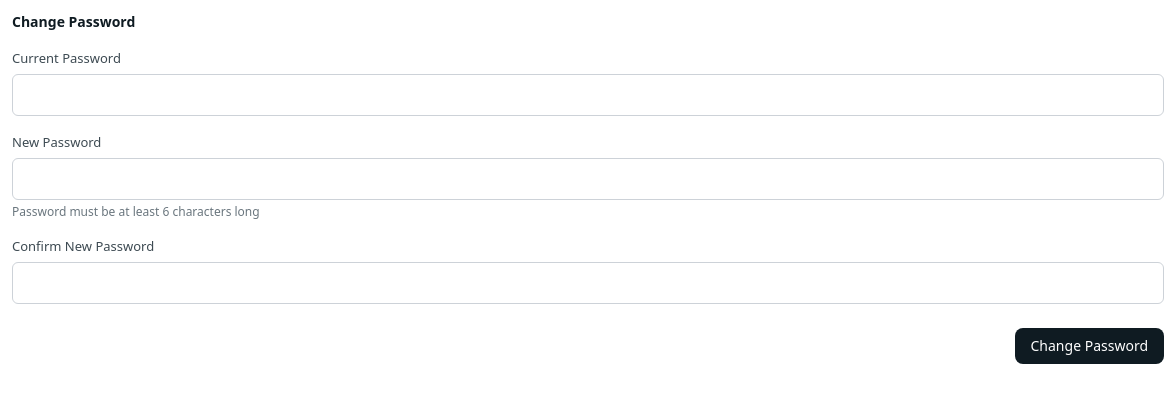
ProfilePasswordForm › shows validation failures inline
Type "old-password" into the password field with id "old_password" at coordinates (588, 95), box left=12, top=74, right=1164, bottom=116
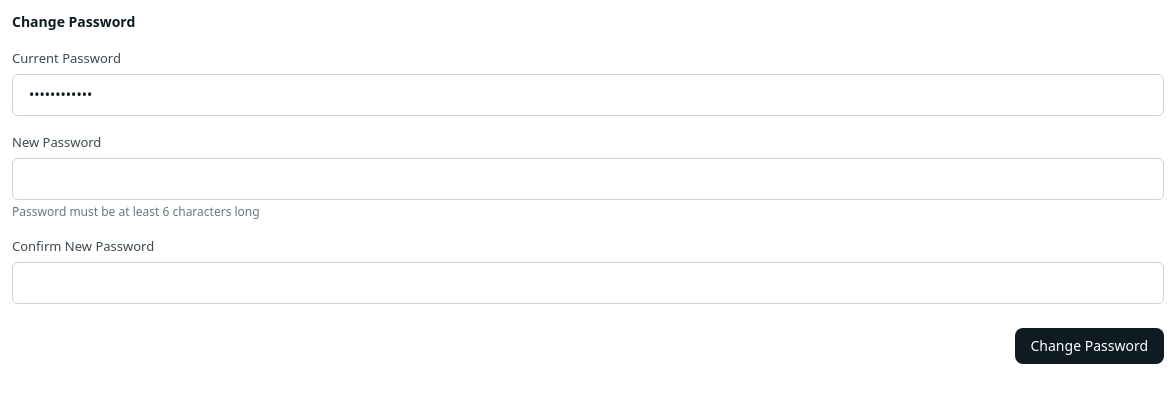
Type "new-password" into the password field with id "new_password" at coordinates (588, 179), box left=12, top=158, right=1164, bottom=200
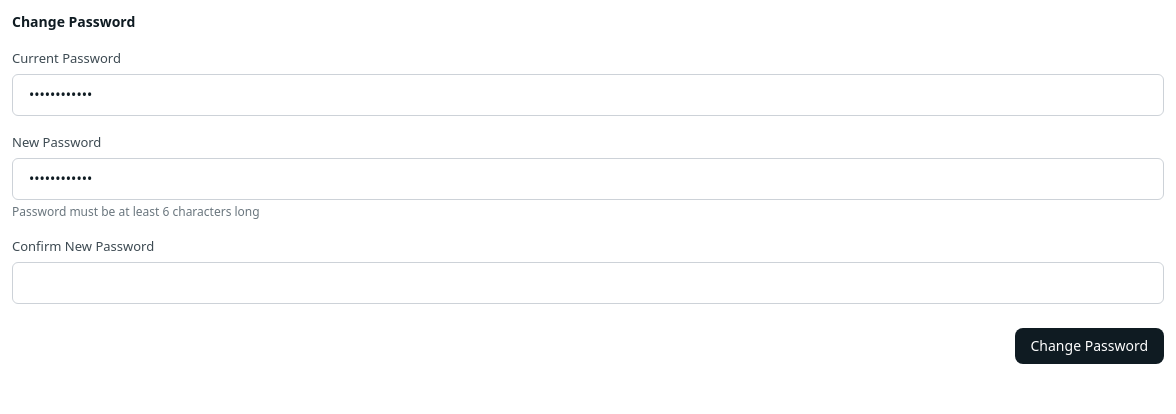
Type "different-password" into the password field with id "confirm_password" at coordinates (588, 283), box left=12, top=262, right=1164, bottom=304
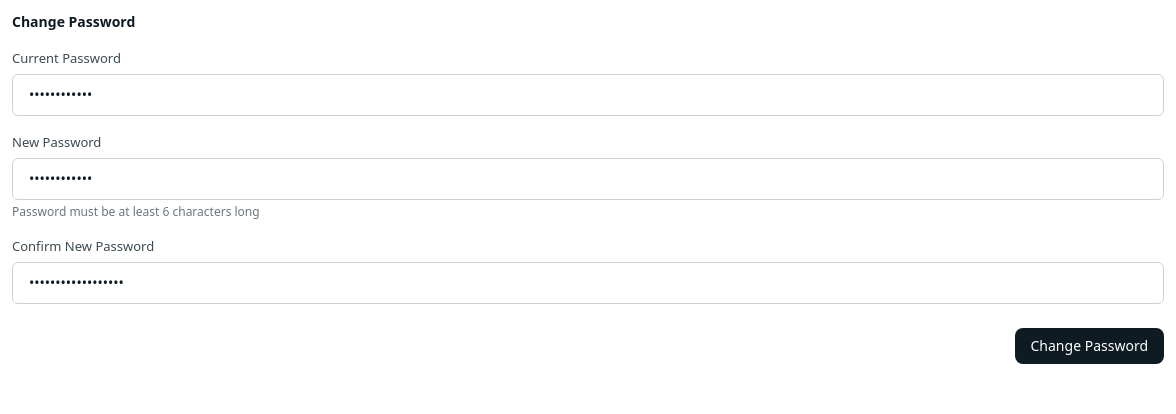
Submit the form
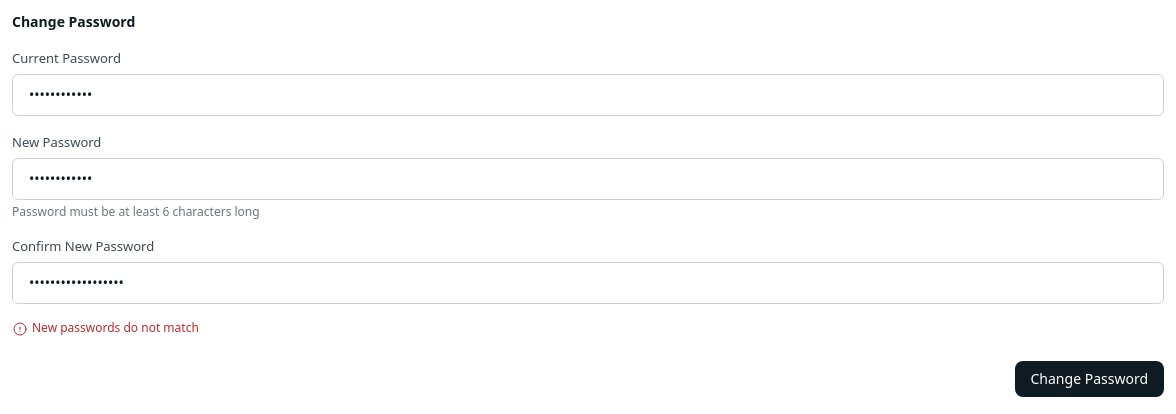
Check: the message with class "input-error-text" reads "New passwords do not match", box left=32, top=319, right=199, bottom=336
